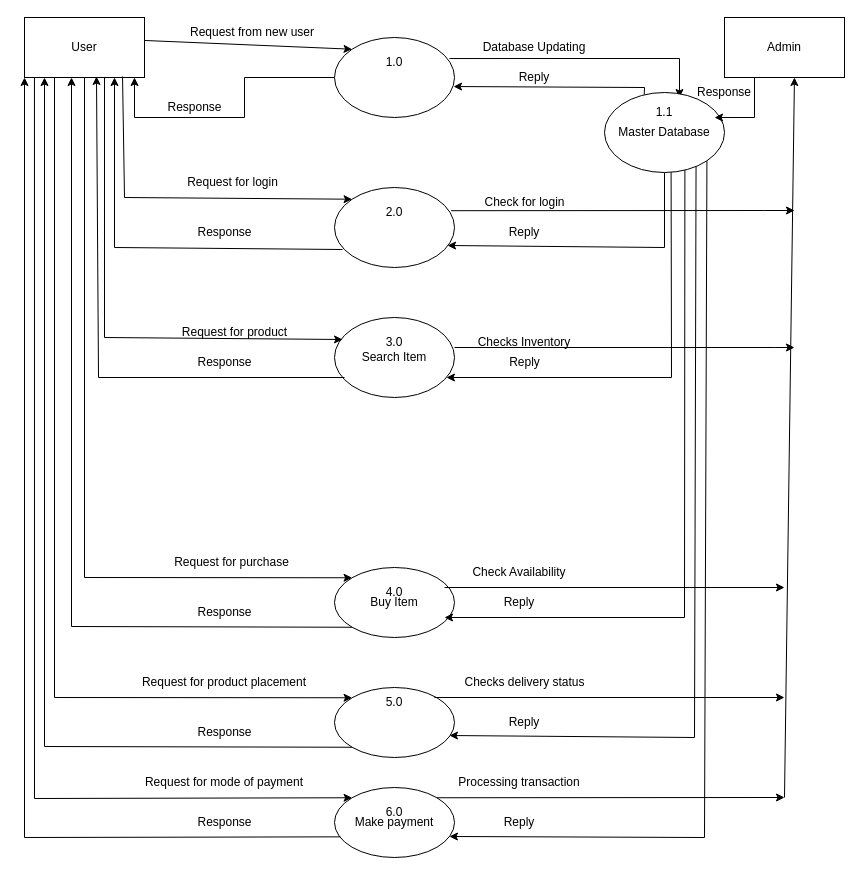
This 862x875 diagram has some shape labels left out. Here are the shapes that lost their labels. From the top down, the box of each, then its label:
(334, 36, 454, 118): Register
(334, 186, 454, 268): Login
(334, 686, 454, 758): Make order
